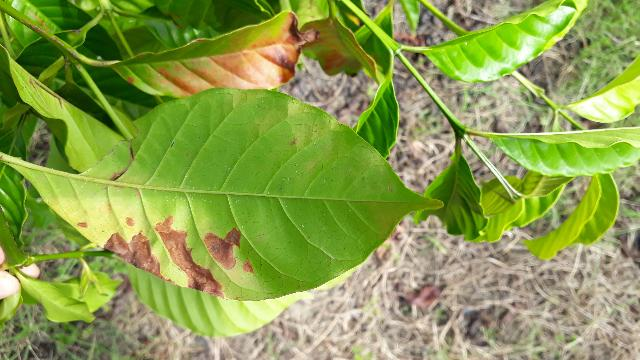red_spider_mite: (0, 81, 447, 304)
